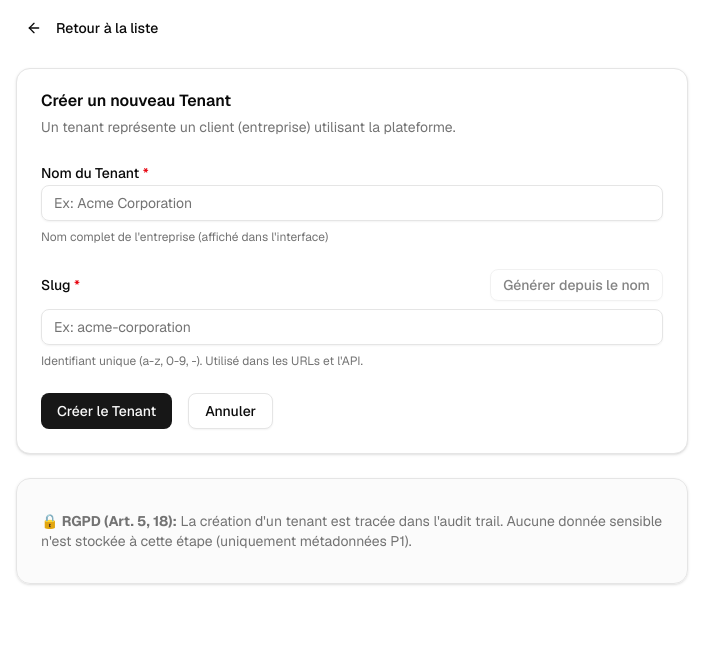
it: Integration Tests - Tenant CRUD (LOT 11.1) › Create Tenant Form › [INT-007] should validate slug format
The image size is (705, 658).
In the field labelled "Slug *": {"x": 352, "y": 327} [41, 309, 663, 345], type "Invalid Slug!"
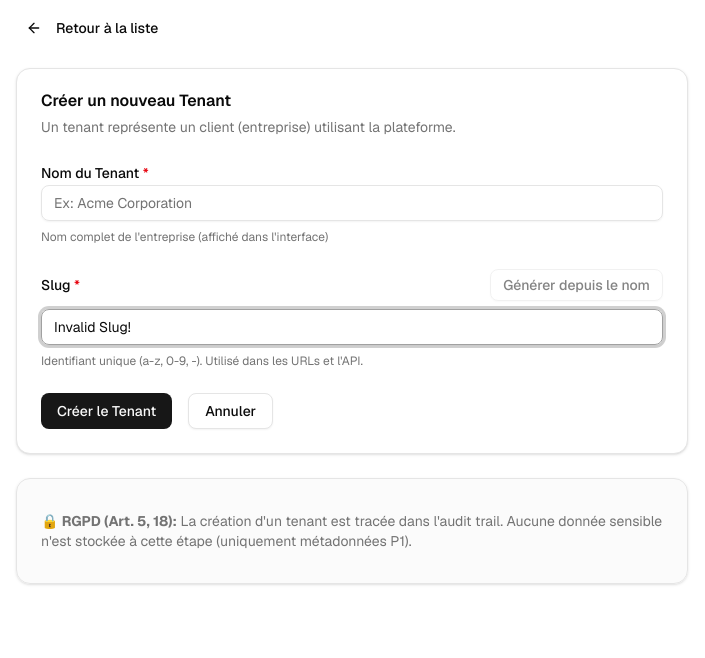
Click the button "Créer le Tenant": {"x": 107, "y": 411} [41, 393, 172, 429]
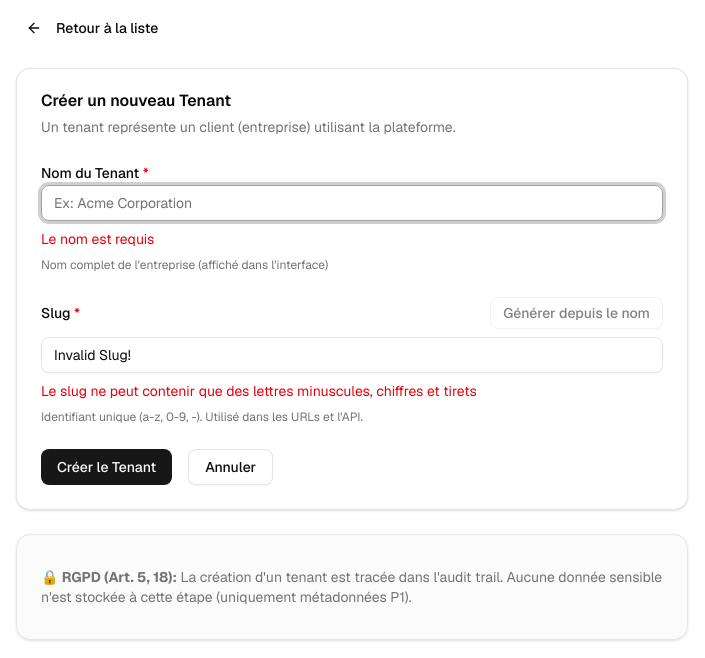
Check: the text "slug ne peut contenir que" is shown, box [41, 382, 477, 400]
